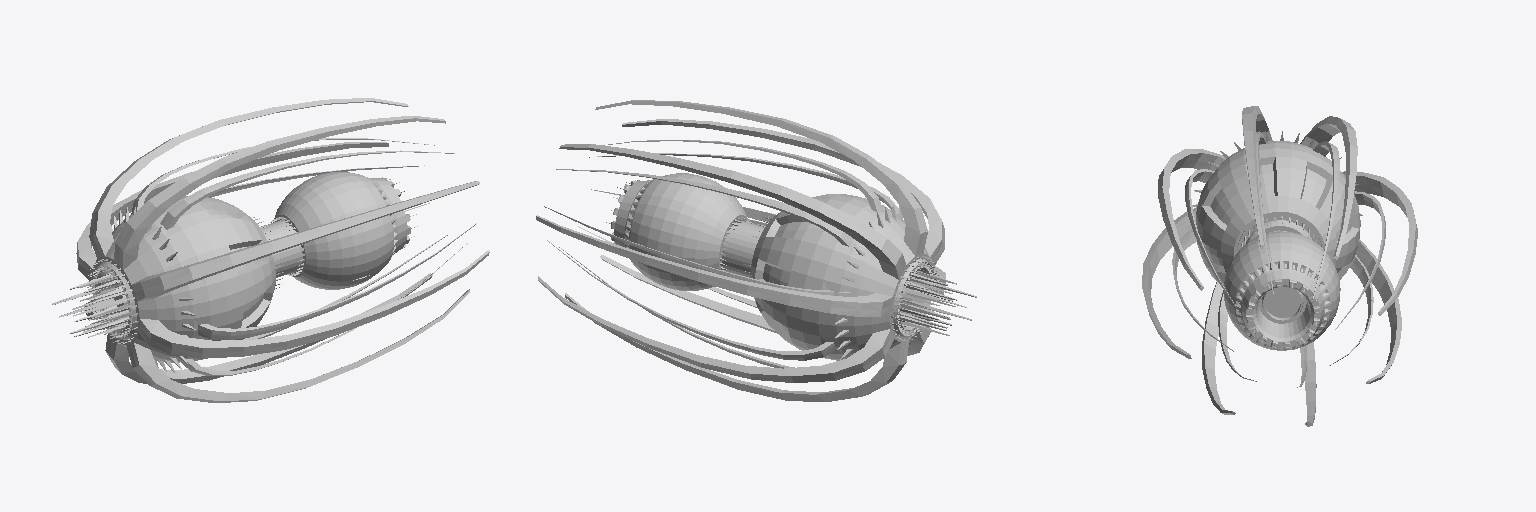
The model's file is babylon_station_mod.obj.
The picture shows the model from 3 angles: view 1: azimuth 30°, elevation 25°; view 2: azimuth 150°, elevation 25°; view 3: azimuth 270°, elevation 25°; orthographic projection.
Size of the model in its own units: 8.34 by 4.97 by 4.97.